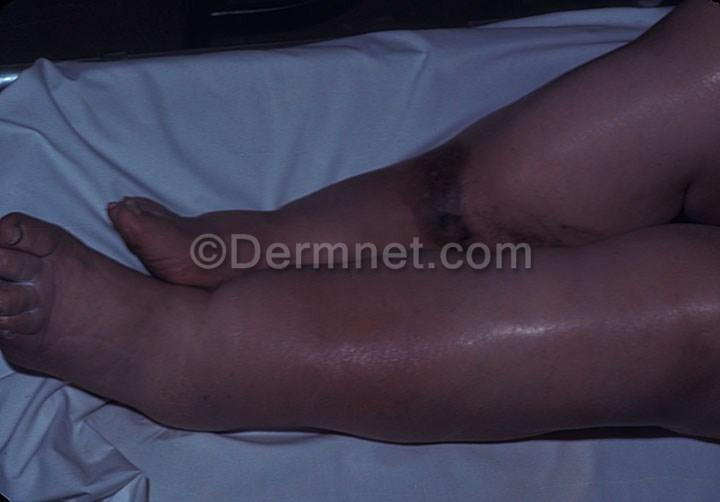Eczema: (407, 150, 482, 239)
